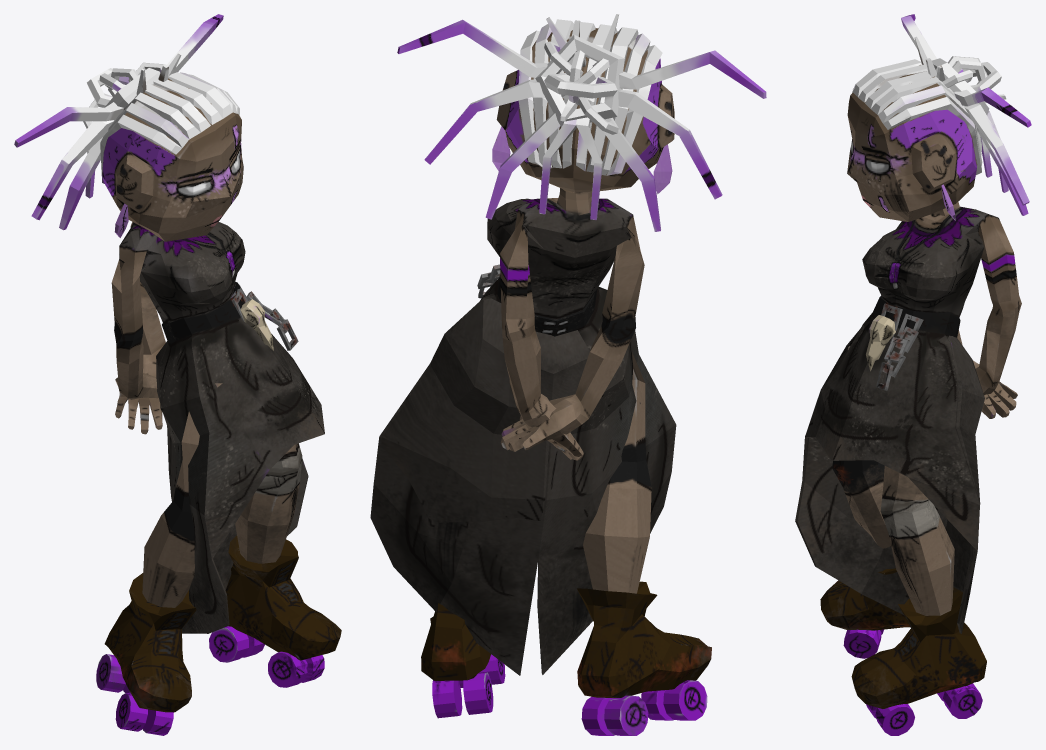
Rendered from bruja_000023.obj.
3 renders of one model, left to right at view 1: azimuth 30°, elevation 25°; view 2: azimuth 150°, elevation 25°; view 3: azimuth 270°, elevation 25°, orthographic. The views are drawn at different scales.
Visible parts, largest first — view 1: Bruja_Plane.001; view 2: Bruja_Plane.001; view 3: Bruja_Plane.001.
Part boxes in pixels (x1=…): Bruja_Plane.001: x1=14, y1=14, x2=341, y2=735; Bruja_Plane.001: x1=370, y1=14, x2=766, y2=735; Bruja_Plane.001: x1=795, y1=14, x2=1031, y2=735.
Bounding box in the file's own units: 8.37 × 16.01 × 5.49.
